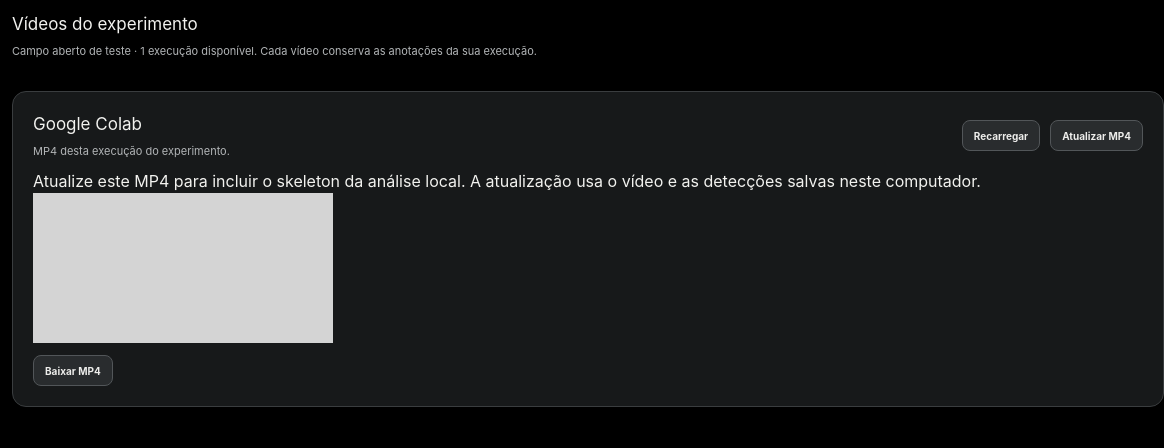
Scenario: retains the playable export and allows retry when an upgrade fails
Click the button "Atualizar MP4": (1097, 136) [1050, 120, 1143, 151]
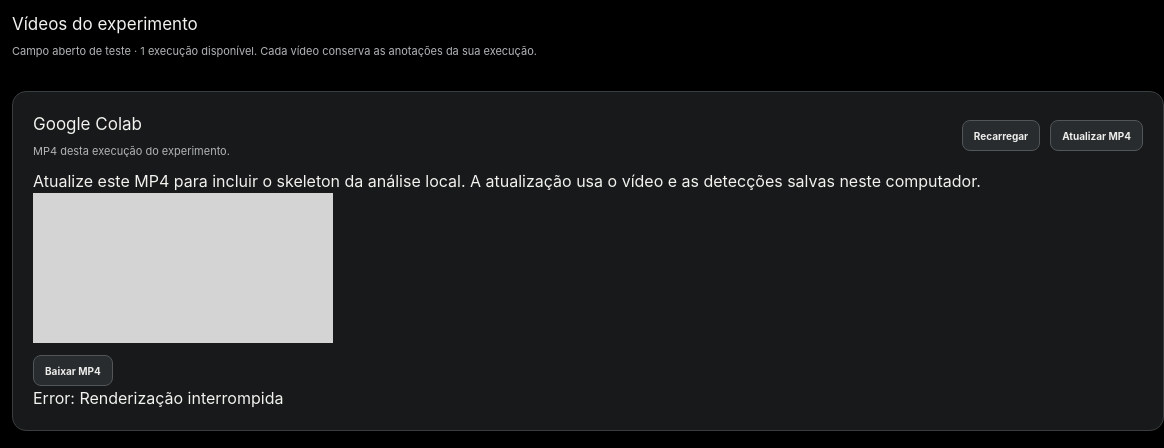
Expected: the message shows "Renderização interrompida", [33, 388, 283, 408]
